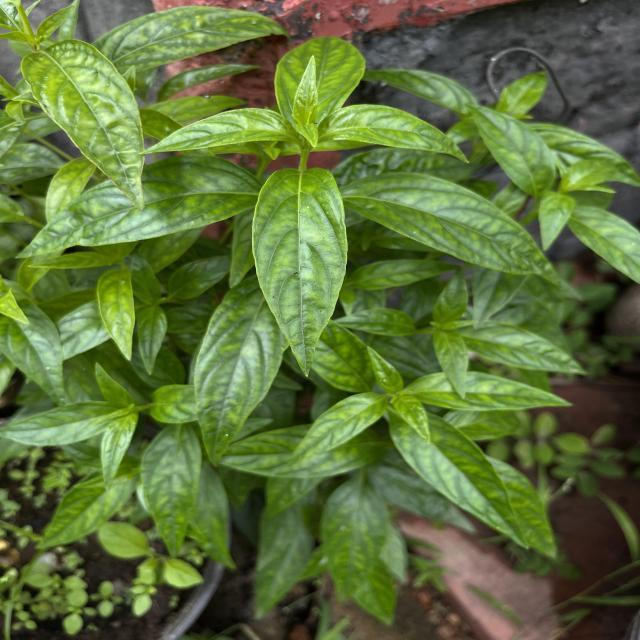Andrographis paniculata: (340, 169, 564, 289), (15, 154, 262, 262), (19, 38, 150, 212), (250, 163, 350, 380), (388, 408, 530, 550), (191, 274, 287, 468), (90, 4, 292, 73), (317, 102, 473, 166), (463, 99, 558, 200), (136, 422, 204, 560), (274, 34, 366, 126), (321, 478, 388, 604), (284, 390, 390, 468), (136, 106, 292, 157), (0, 296, 67, 408), (461, 320, 590, 377), (408, 369, 576, 412), (0, 399, 122, 448), (95, 266, 140, 364)
